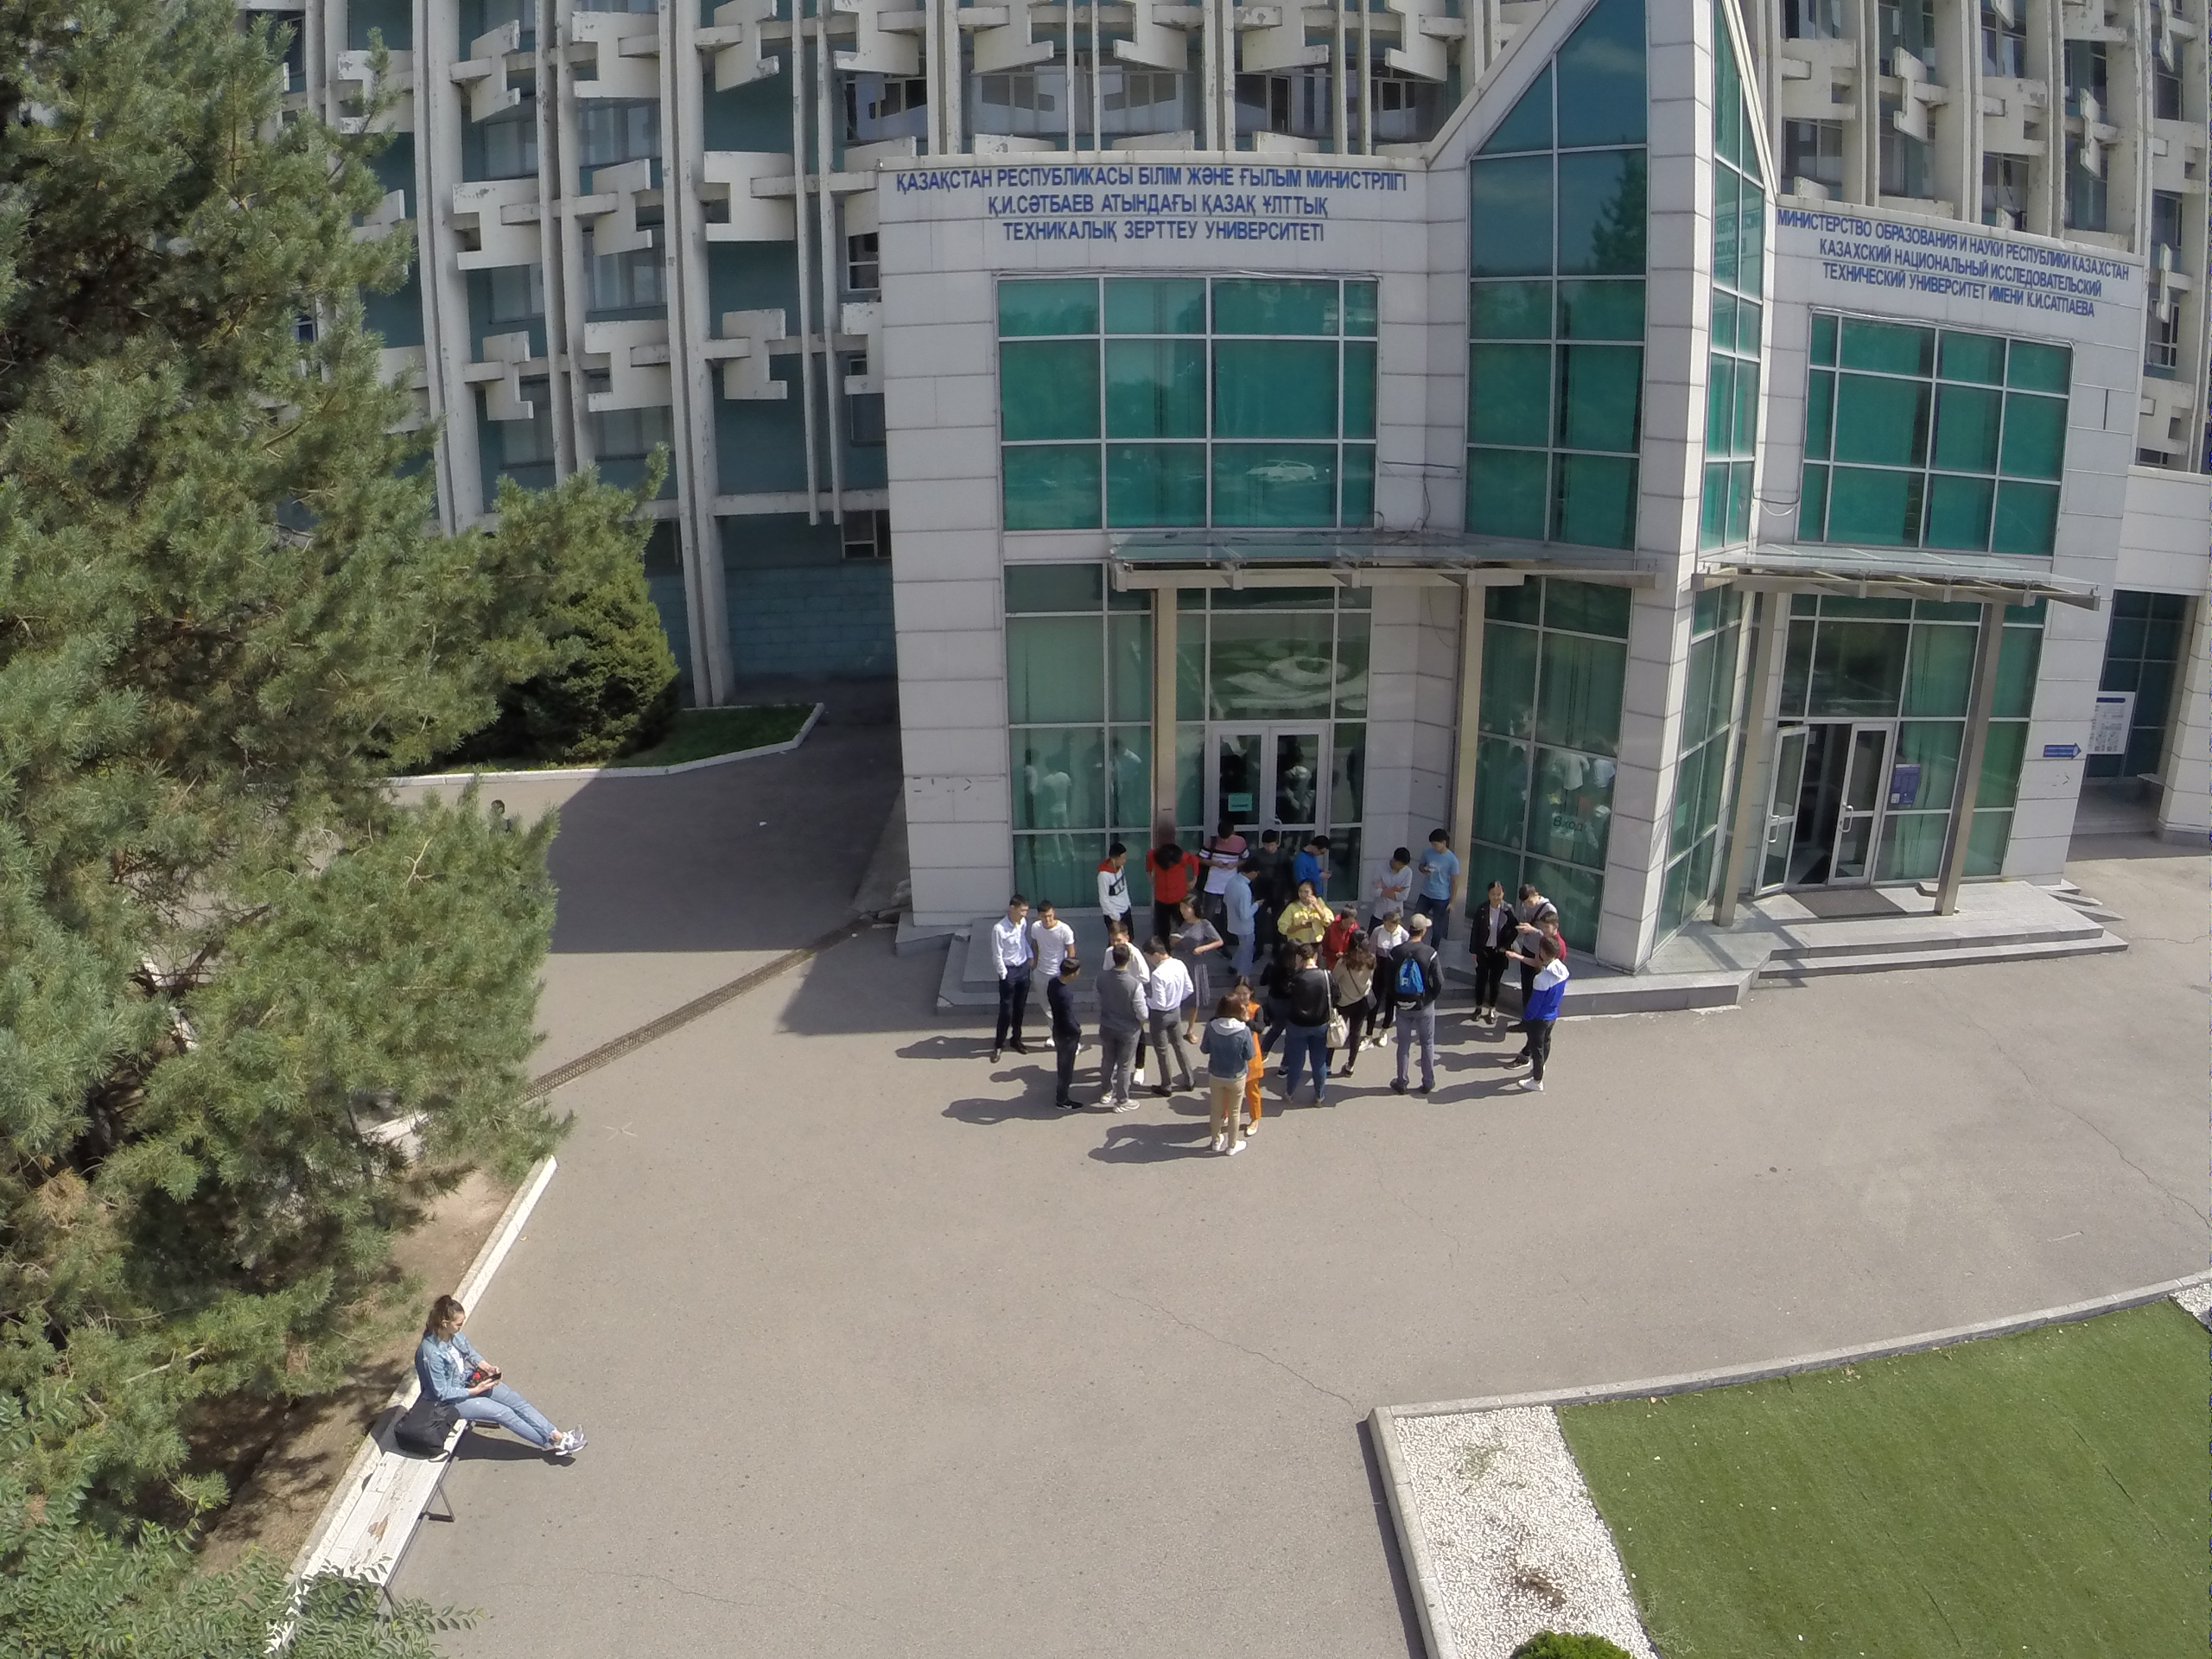person: (399, 1289, 593, 1490), (1186, 997, 1249, 1162), (1390, 911, 1446, 1096), (1282, 939, 1341, 1112), (1454, 878, 1518, 1032), (1142, 936, 1198, 1094), (1512, 937, 1565, 1101), (1092, 944, 1141, 1113), (1169, 895, 1220, 1053), (989, 887, 1030, 1065), (1232, 975, 1274, 1141), (1044, 954, 1084, 1123), (1334, 924, 1372, 1082), (1227, 849, 1268, 985), (1414, 825, 1465, 931), (1148, 836, 1201, 925), (1096, 829, 1137, 935), (1026, 895, 1077, 969), (1367, 843, 1415, 919), (1200, 819, 1245, 900), (1253, 827, 1292, 911), (1274, 886, 1330, 940), (1291, 834, 1343, 886)
